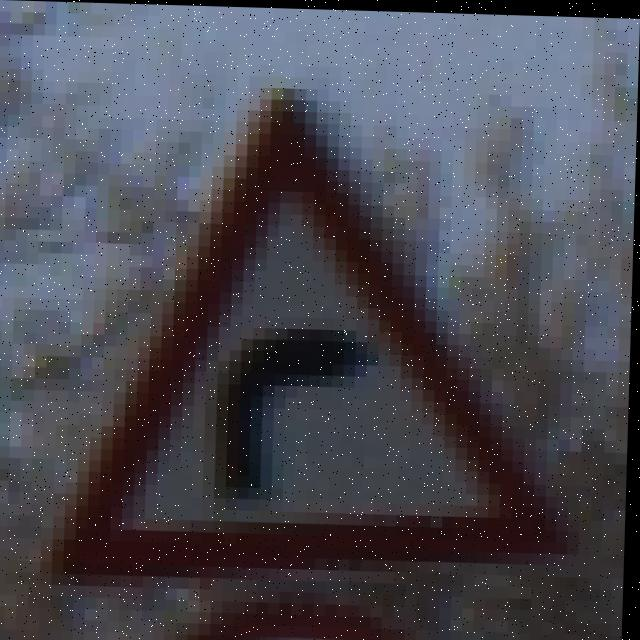right_turn: (118, 106, 554, 626)
